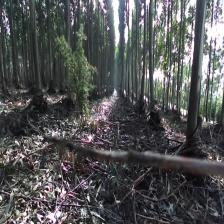trunk: (186, 8, 205, 136), (30, 9, 43, 92), (148, 5, 156, 116), (139, 8, 147, 105)
